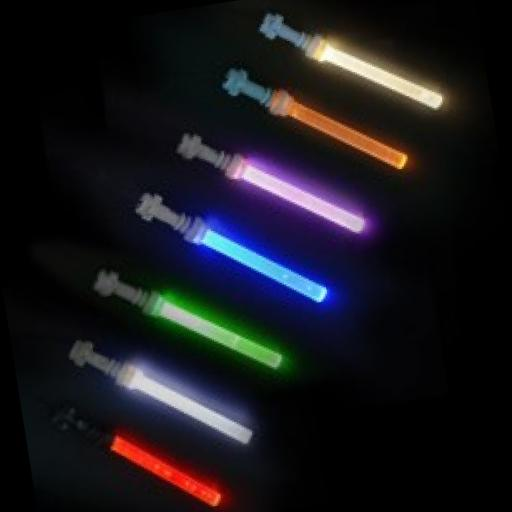lightsaber: (130, 166, 329, 332), (171, 104, 369, 262), (219, 40, 411, 198), (90, 242, 288, 394), (66, 315, 256, 471), (258, 0, 447, 134)
sith saber: (54, 383, 227, 512)
